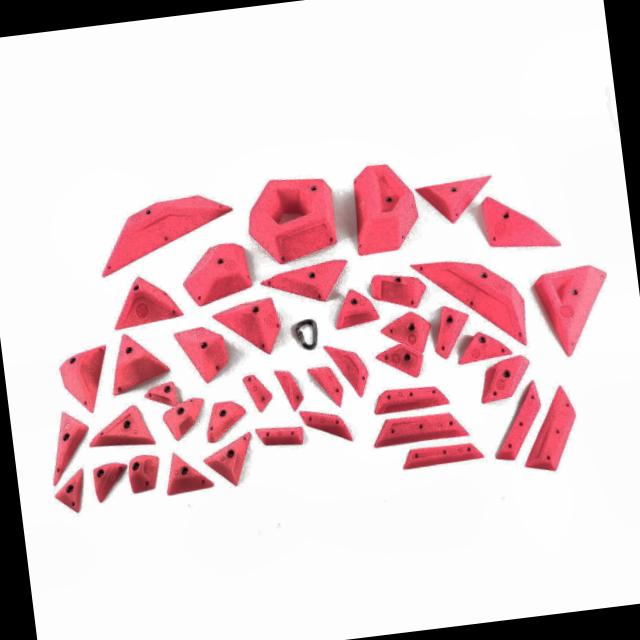Hold: (92, 180, 245, 284), (403, 255, 535, 356), (240, 168, 344, 266), (532, 261, 618, 358), (347, 158, 414, 256), (478, 188, 558, 252), (412, 170, 498, 228), (213, 294, 284, 360), (180, 242, 253, 306), (260, 260, 354, 308), (105, 329, 172, 393), (110, 271, 182, 327), (86, 401, 158, 454), (372, 408, 467, 447), (56, 346, 110, 414), (170, 325, 230, 384), (44, 410, 89, 482), (324, 340, 374, 401), (367, 265, 427, 311), (402, 438, 484, 471), (431, 304, 474, 360), (480, 354, 532, 400), (164, 450, 214, 497), (380, 308, 430, 354), (372, 345, 434, 382), (202, 394, 247, 441), (302, 362, 346, 410), (331, 286, 380, 329), (454, 330, 512, 366), (160, 398, 208, 441), (88, 456, 128, 506), (253, 420, 307, 453), (241, 369, 276, 417), (126, 452, 164, 496), (274, 364, 304, 413), (145, 380, 178, 408)
